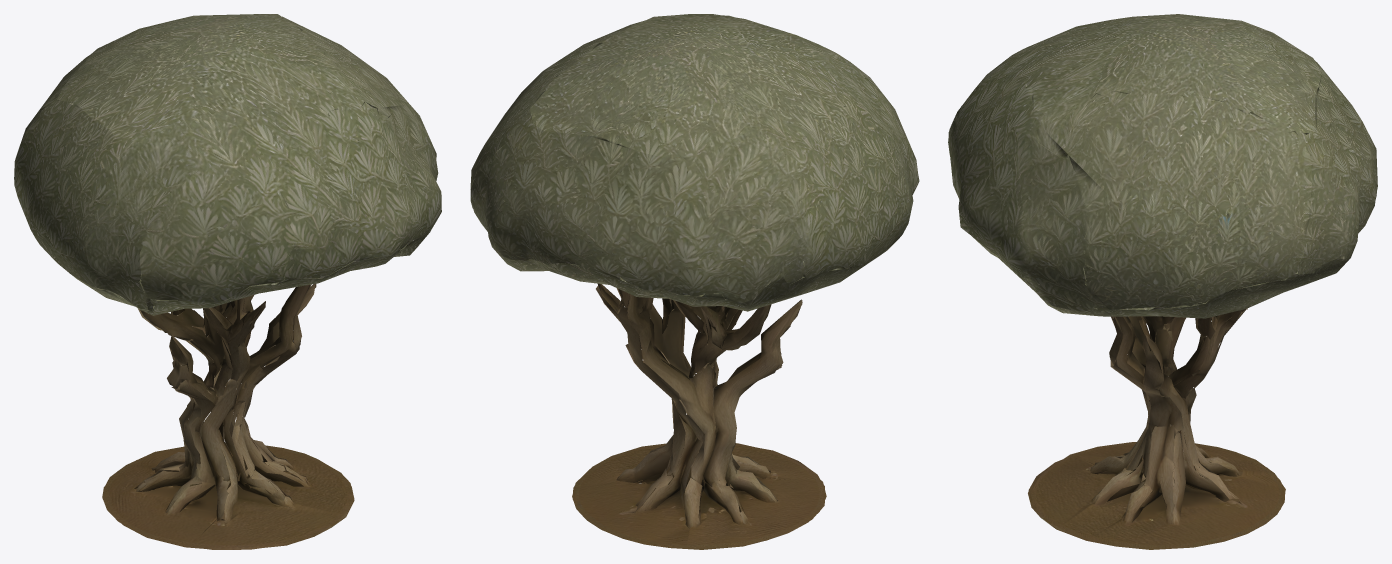
The model's file is HillTree.glb.
3 renders of one model, left to right at view 1: azimuth 30°, elevation 25°; view 2: azimuth 150°, elevation 25°; view 3: azimuth 270°, elevation 25°, orthographic.
Parts seen in each view (by area): view 1: node_0; view 2: node_0; view 3: node_0.
Part boxes in pixels (left/top/right/bottom): node_0: left=14, top=14, right=441, bottom=549; node_0: left=470, top=14, right=919, bottom=549; node_0: left=948, top=14, right=1377, bottom=549.
Bounding box in the file's own units: 0.8739 × 1.06 × 0.8908.
1 material, 1 textured.
